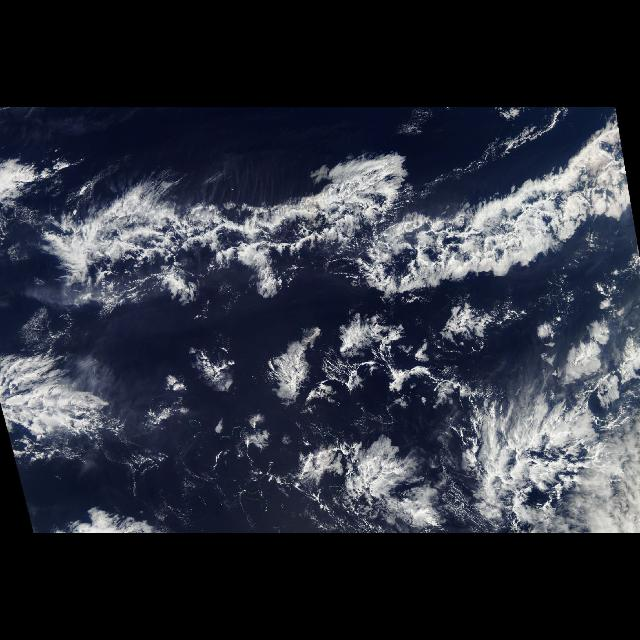Fish: (8, 114, 640, 430)
